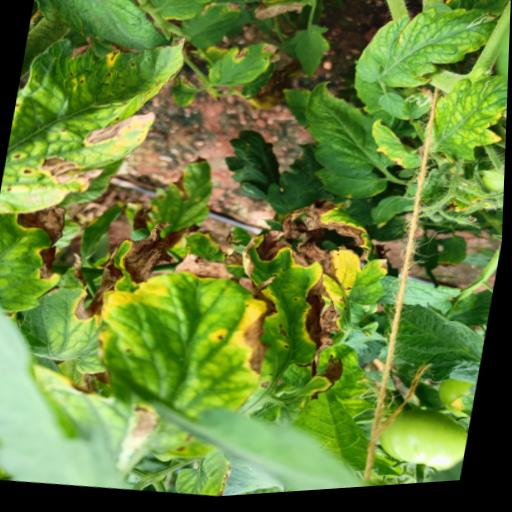Early Blight: (19, 231, 289, 484), (0, 16, 193, 234), (224, 187, 406, 387), (12, 244, 111, 369), (0, 190, 74, 319), (205, 38, 281, 99), (141, 0, 221, 29)
